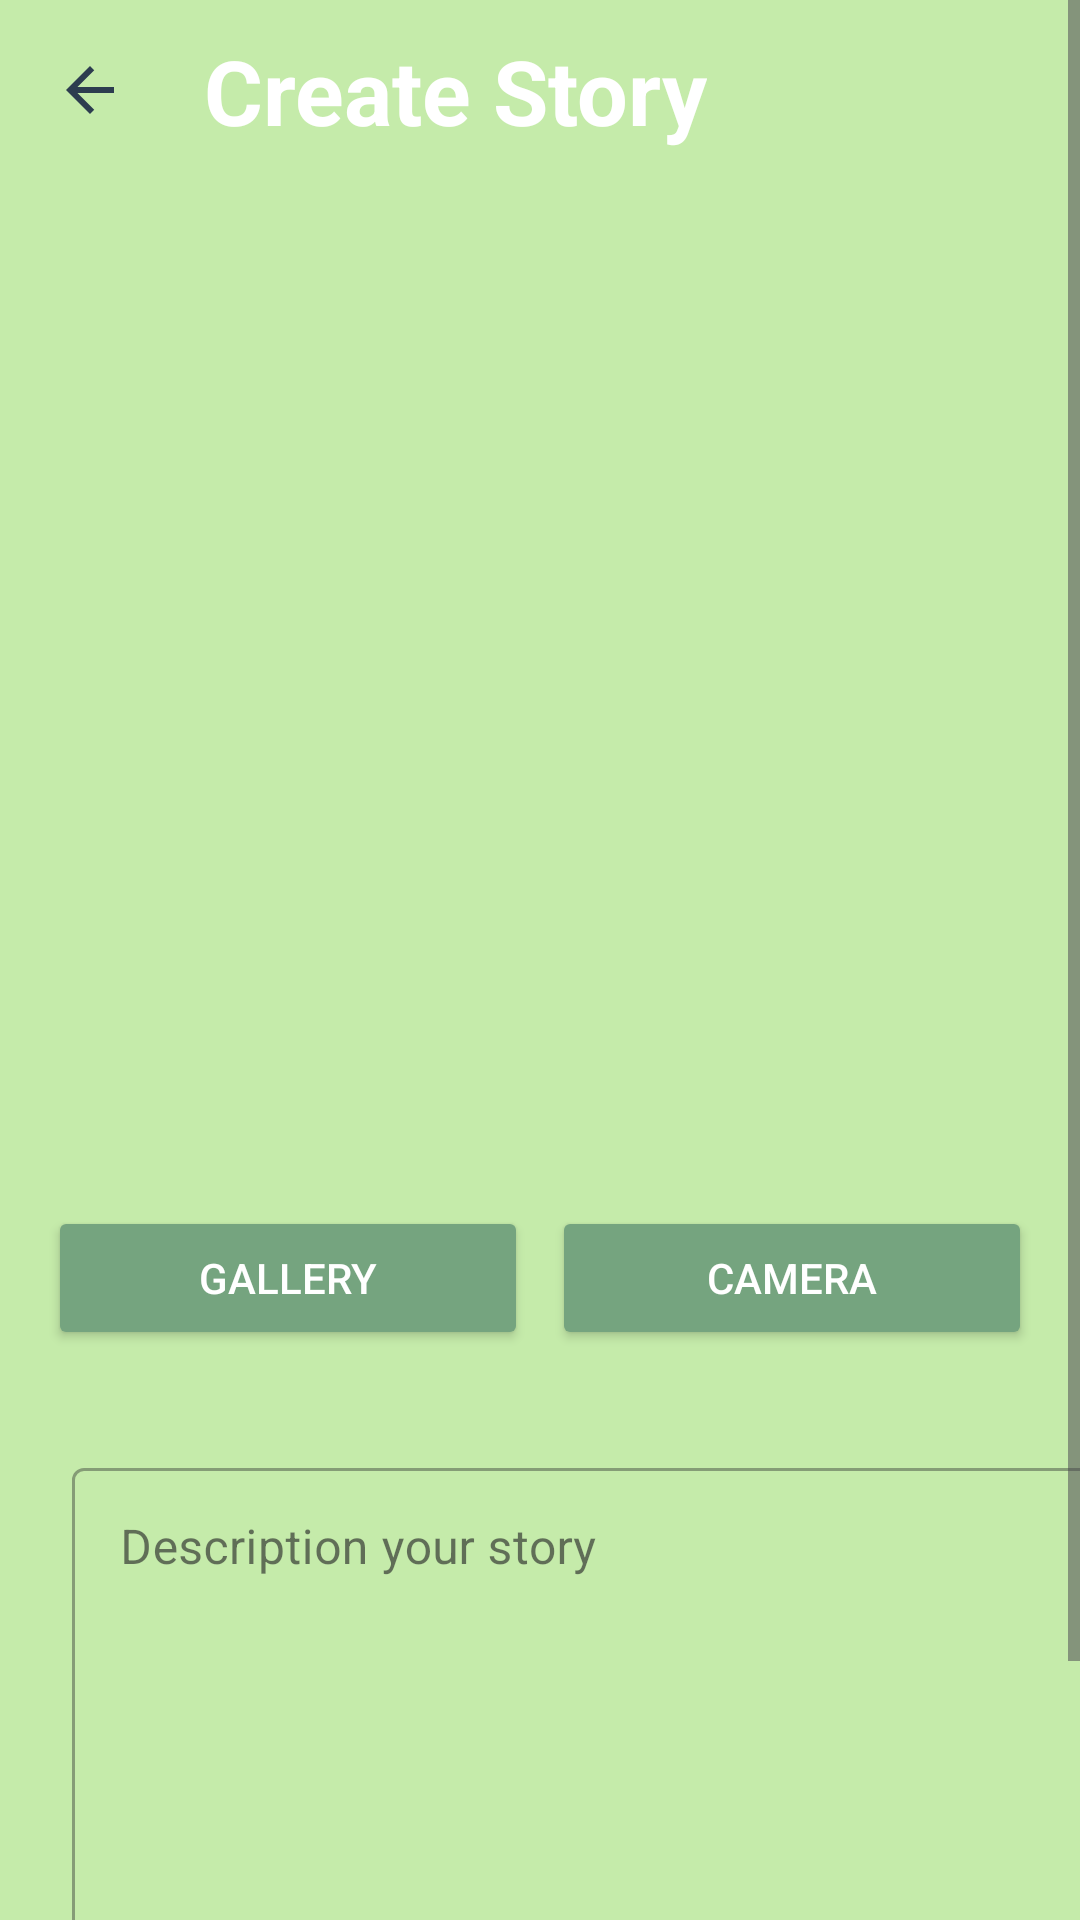

Where to tap for icons on this 1080w x 1920h app screen, as (x,y):
arrow back: (90,90)
